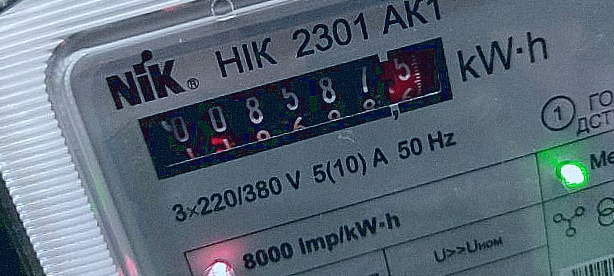0: (203, 99, 231, 135), (166, 110, 194, 144)
5: (277, 80, 303, 113), (389, 49, 414, 82)
6: (397, 84, 416, 102)
7: (351, 61, 376, 97)
8: (241, 92, 268, 126), (314, 71, 339, 106)
screen: (124, 33, 480, 183)
